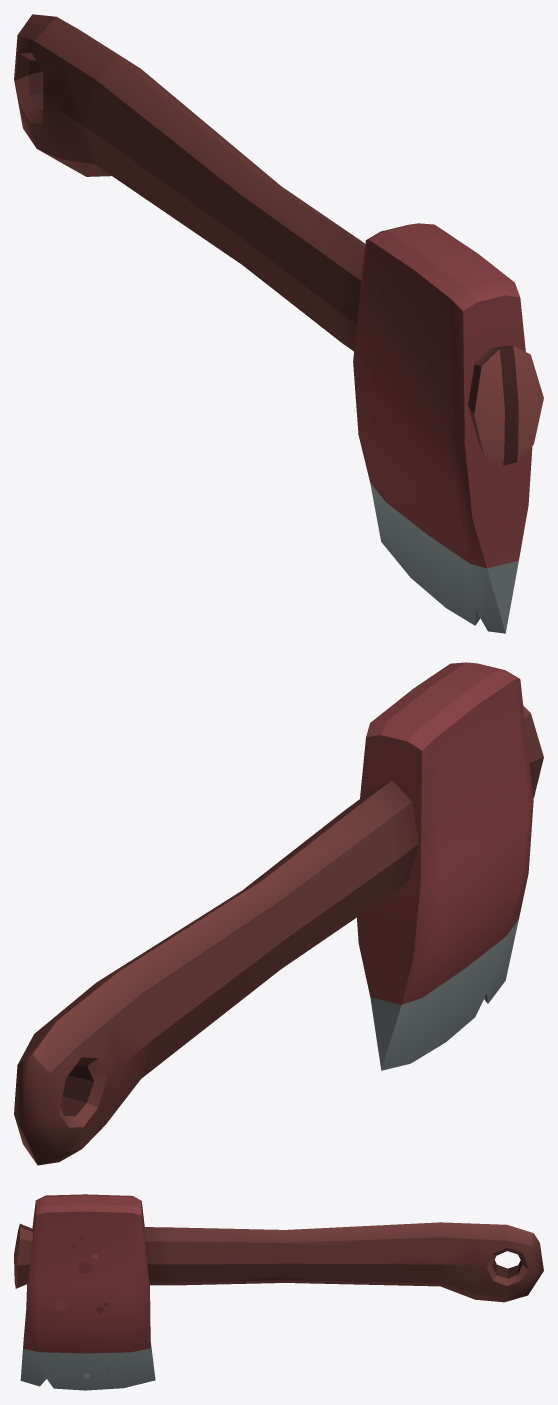
File: Tool_Axe.fbx
3 views of the same model, one above another, from view 1: azimuth 30°, elevation 25°; view 2: azimuth 150°, elevation 25°; view 3: azimuth 270°, elevation 25° (orthographic). The views are drawn at different scales.
Visible parts, largest first — view 1: Tool_Axe; view 2: Tool_Axe; view 3: Tool_Axe.
Boxes of the visible parts, left/top/right/bottom form: Tool_Axe: left=14, top=14, right=543, bottom=633; Tool_Axe: left=14, top=662, right=543, bottom=1165; Tool_Axe: left=14, top=1194, right=543, bottom=1390.
Bounding box in the file's own units: 0.2415 × 1.03 × 2.61.
